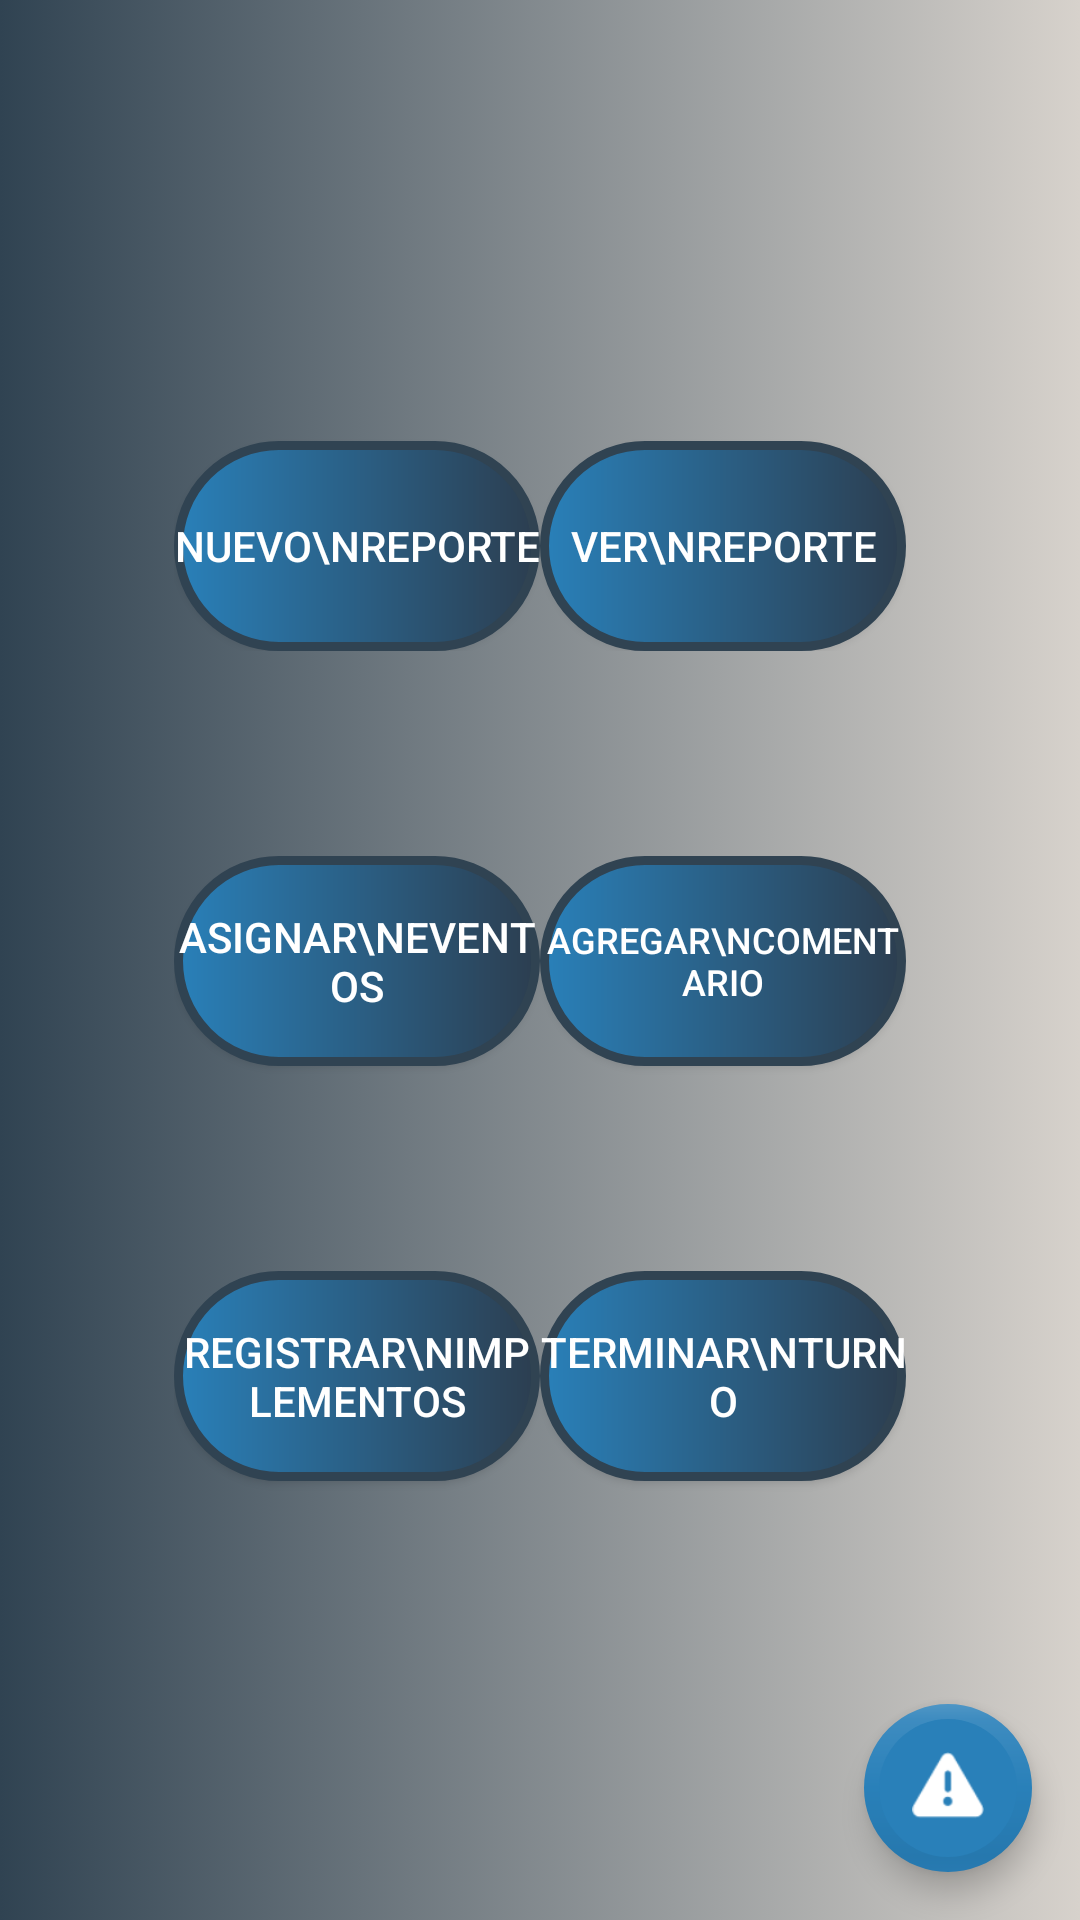

Screen size 1080px×1920px. Icon name, then its box in pixels as BBox(x1, y1, x2, y2):
alert: BBox(864, 1704, 1032, 1872)
